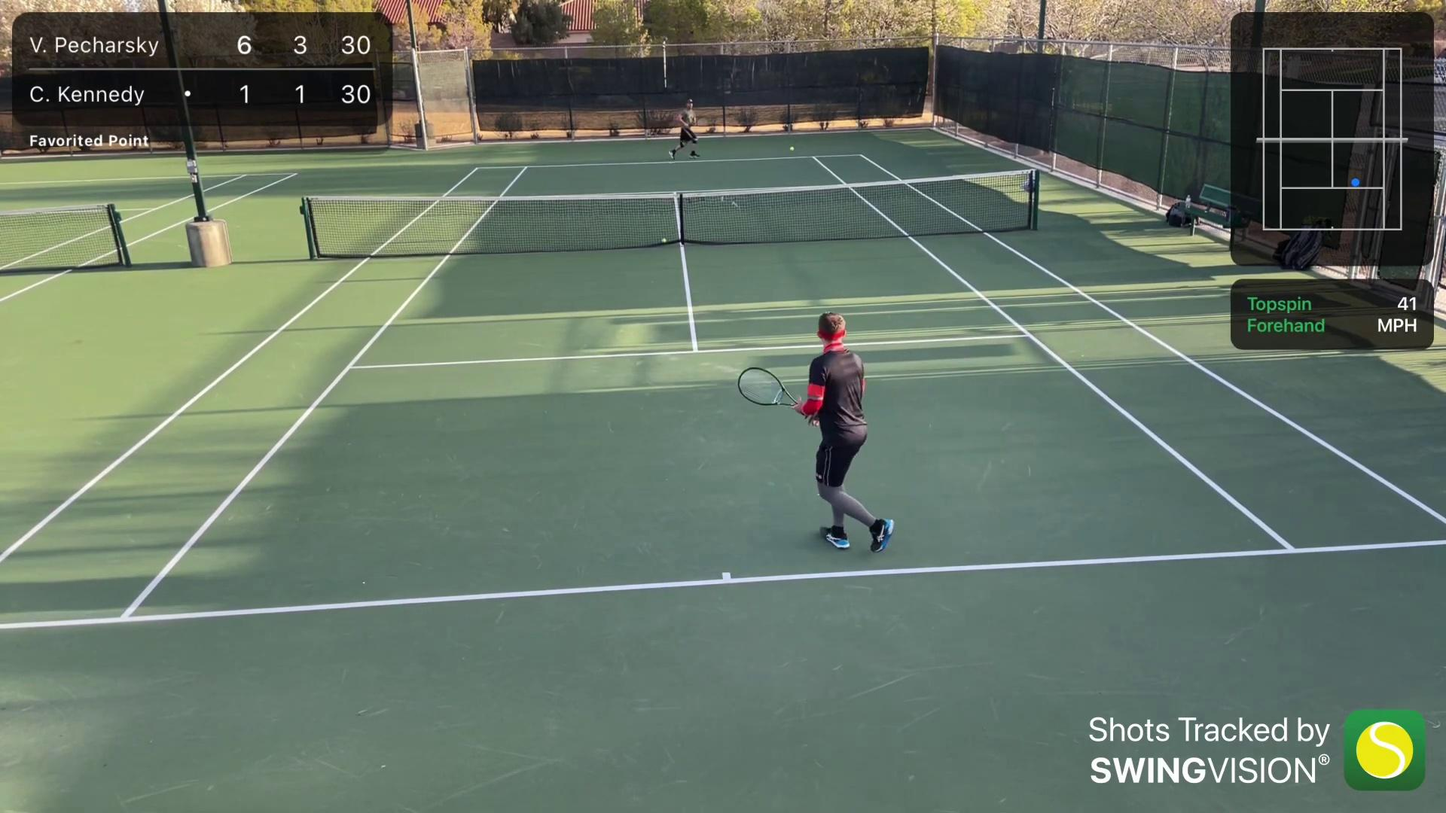ball: (660, 237, 668, 244), (788, 146, 795, 152)
